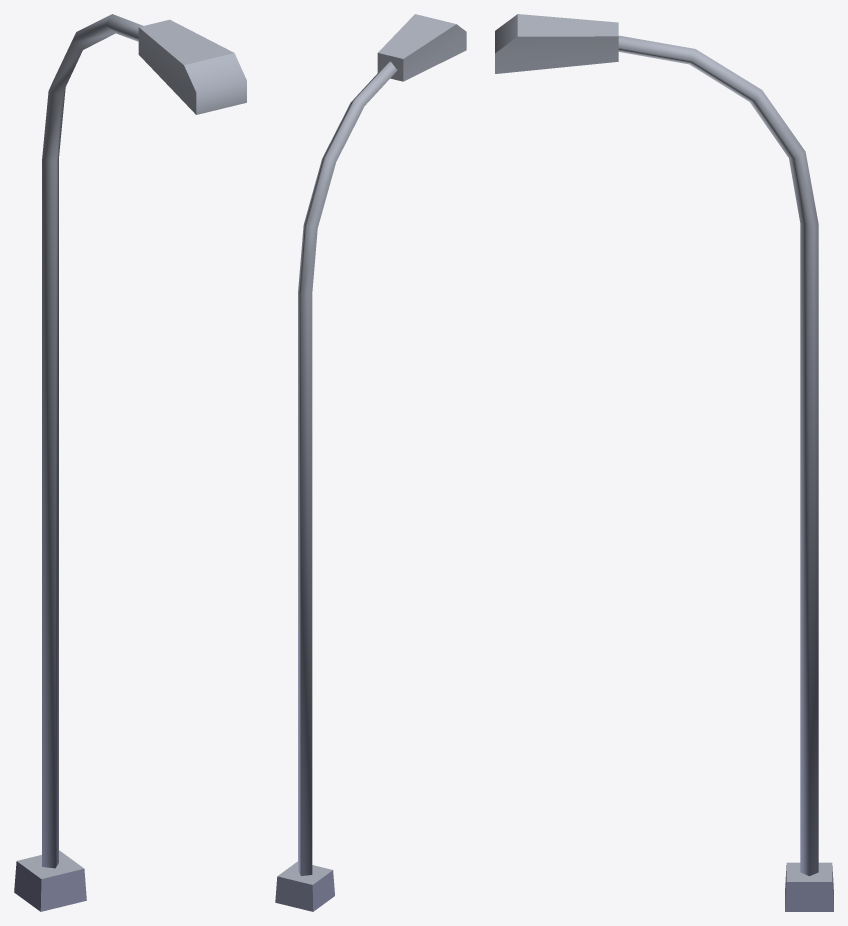
Rendered from Prop_ligthpole.glb.
3 renders of one model, left to right at view 1: azimuth 30°, elevation 25°; view 2: azimuth 150°, elevation 25°; view 3: azimuth 270°, elevation 25°, orthographic. The views are drawn at different scales.
Parts seen in each view (by area): view 1: Prop_ligthpole; view 2: Prop_ligthpole; view 3: Prop_ligthpole.
Part boxes in pixels (<box>): Prop_ligthpole: <box>14,14,246,911</box>; Prop_ligthpole: <box>275,14,466,911</box>; Prop_ligthpole: <box>495,14,833,911</box>.
Size of the model in its own units: 0.6841 by 12.34 by 4.32.
